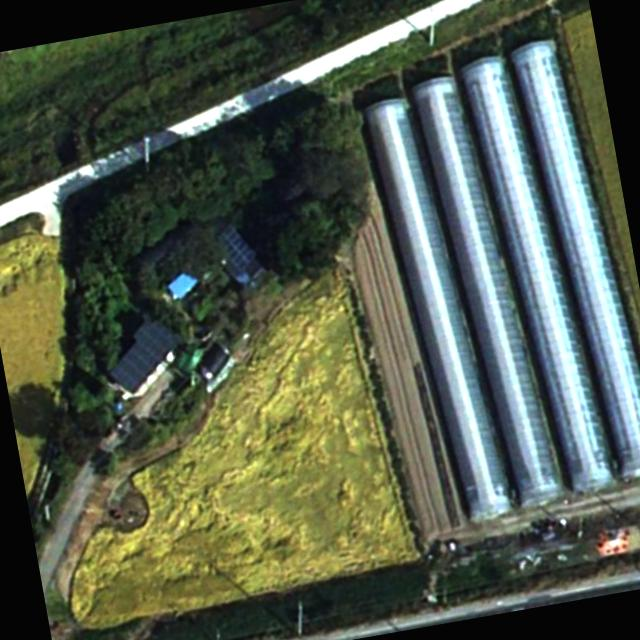solar: (96, 314, 190, 400), (212, 218, 259, 276)
